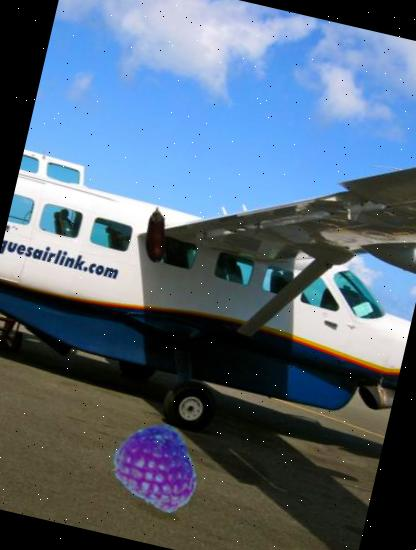Eggplant: (121, 200, 189, 268)
Raspberry: (101, 418, 208, 525)
